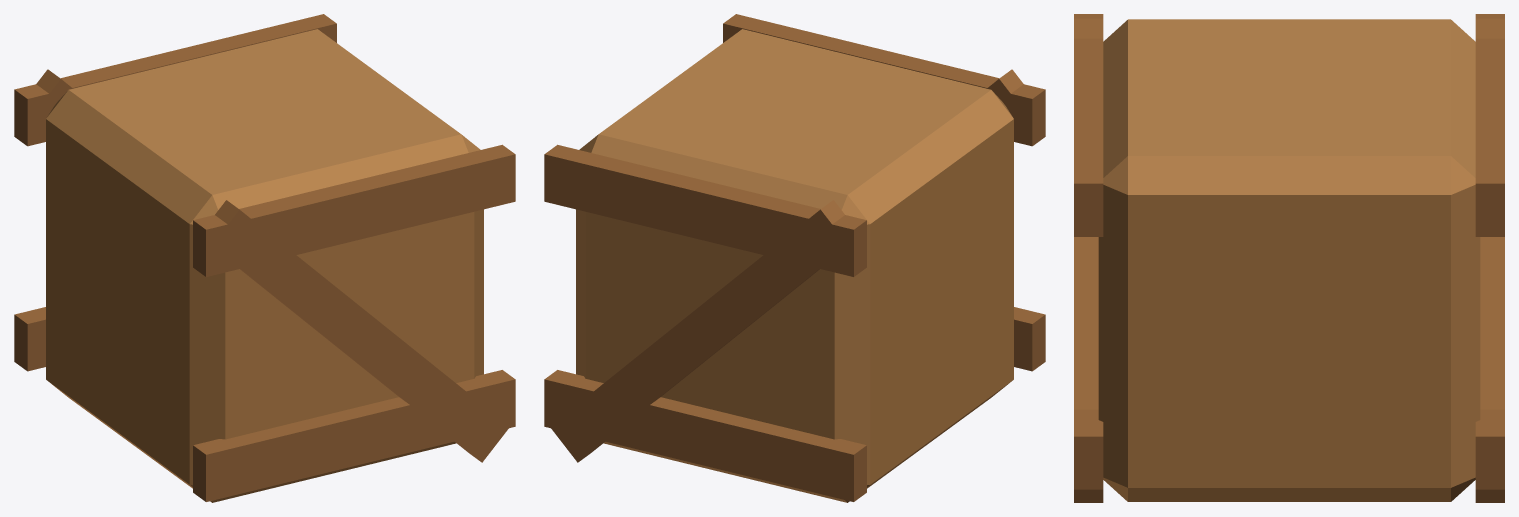
File: CrateSmall.glb
The picture shows the model from 3 angles, left to right: view 1: azimuth 30°, elevation 25°; view 2: azimuth 150°, elevation 25°; view 3: azimuth 270°, elevation 25°; orthographic projection. The views are drawn at different scales.
Visible parts, largest first — view 1: CrateSmall; view 2: CrateSmall; view 3: CrateSmall.
Boxes of the visible parts, x1,y1,x2,y2 form: CrateSmall: (14,14,515,502); CrateSmall: (544,14,1045,502); CrateSmall: (1074,14,1504,502).
Bounding box in the file's own units: 2.05 × 1.98 × 2.2.
Materials: 1 (1 with a texture image).
